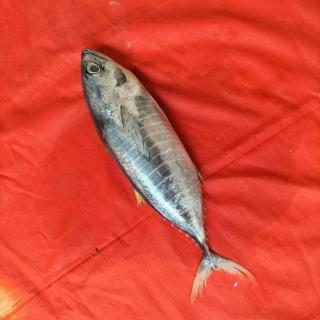Ikan: (67, 40, 265, 300)
